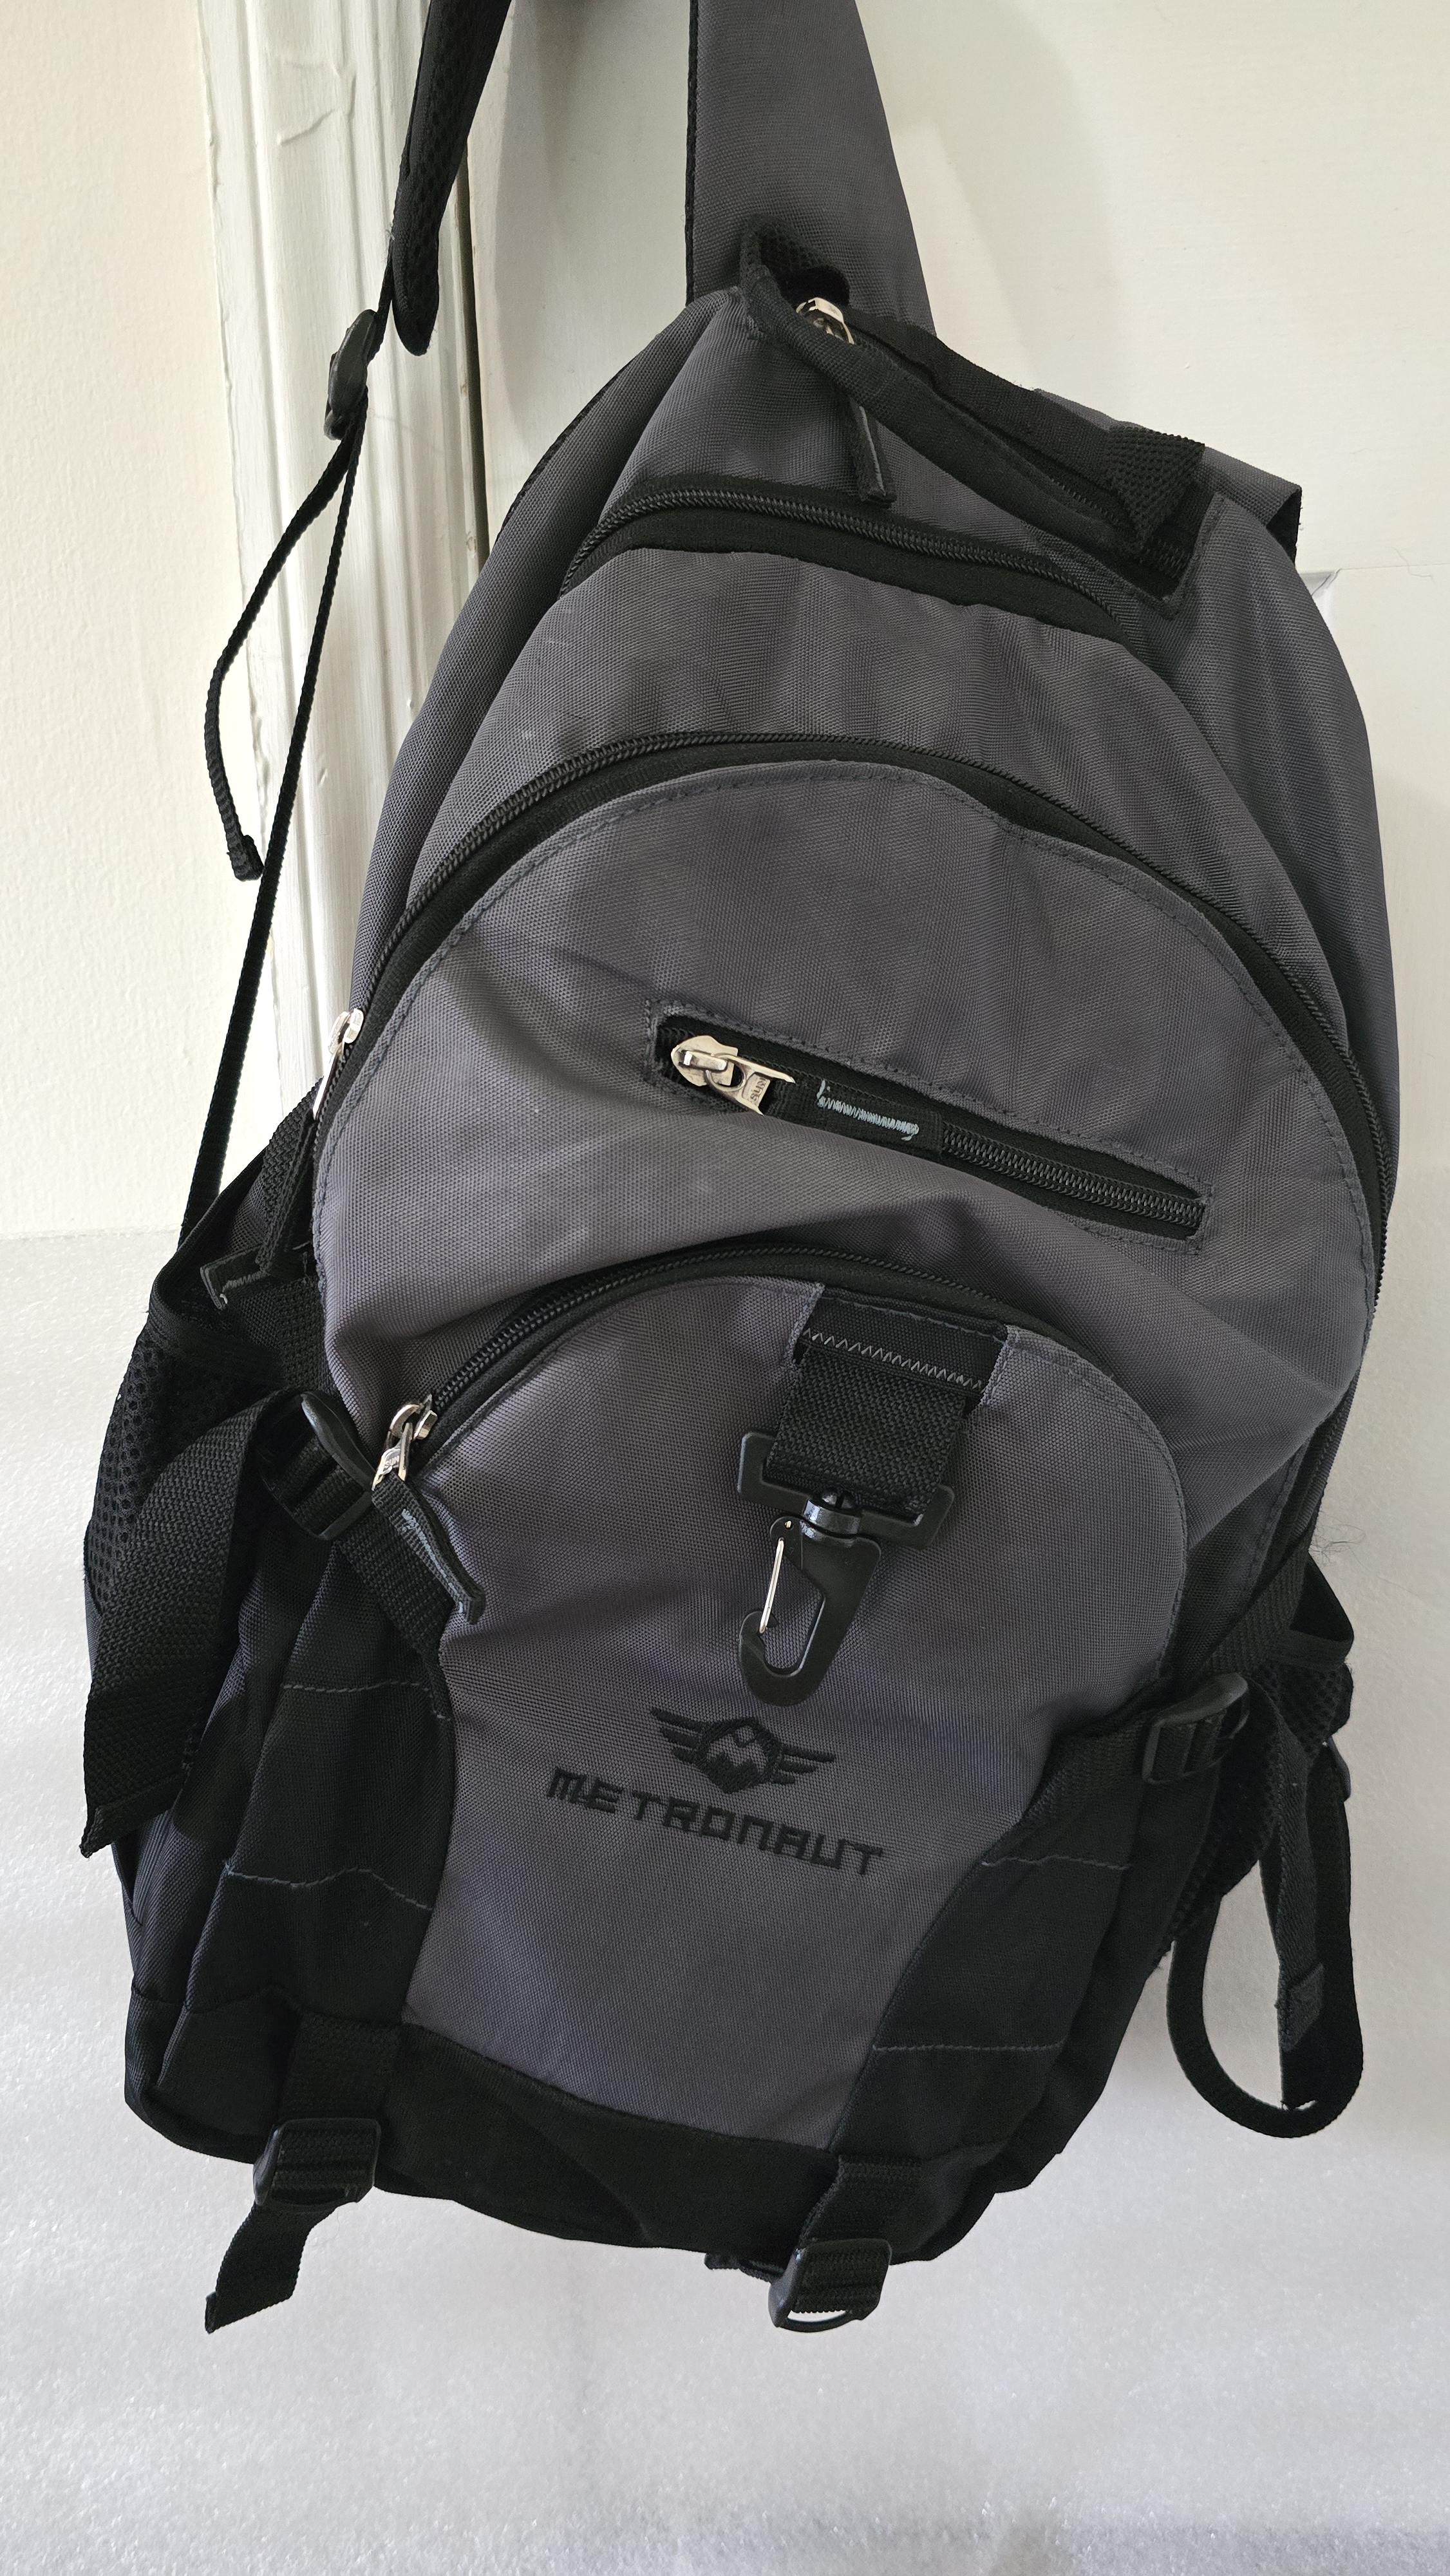bag: (90, 145, 1402, 2270)
